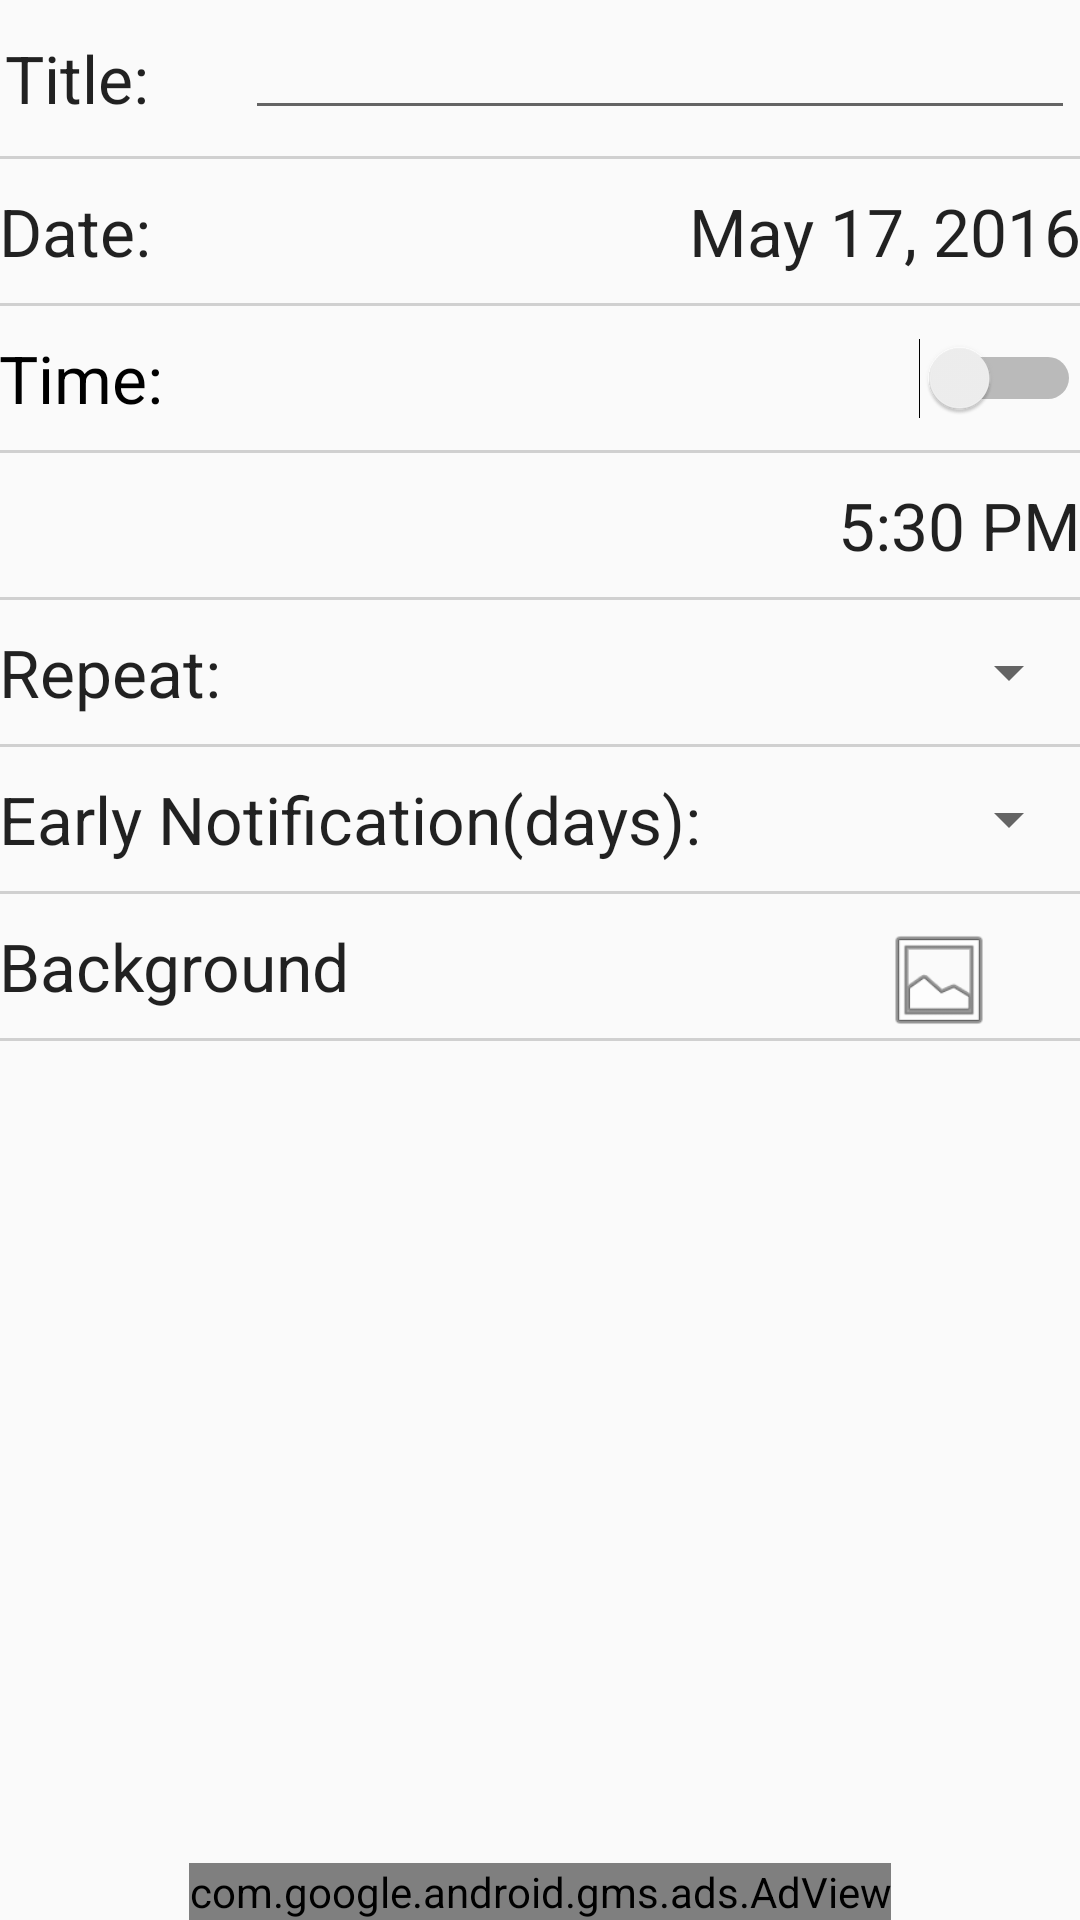

Icon bounding boxes for this 1080px×1920px phone screenshot, format (x1, y1, x2, y2):
gallery: (895, 936, 983, 1024)
